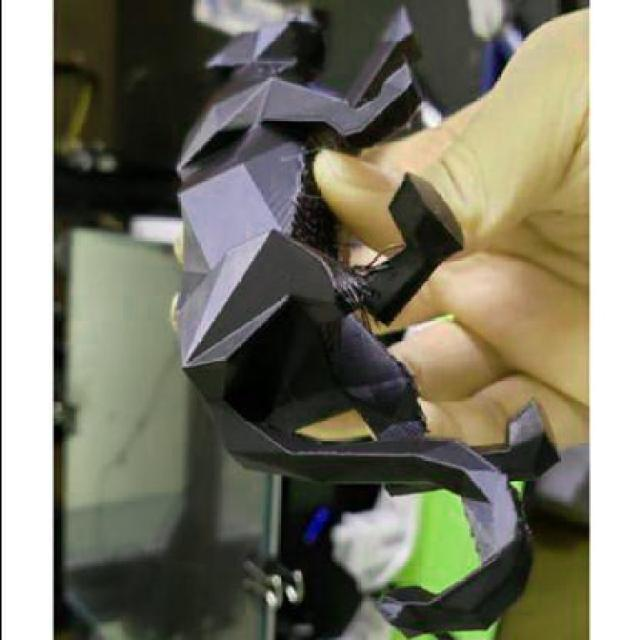spaghetti: (327, 243, 398, 332)
